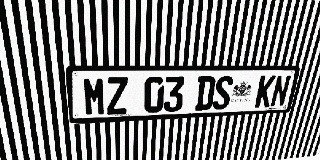0: (144, 76, 165, 113)
3: (163, 76, 185, 112)
D: (194, 76, 216, 111)
K: (254, 75, 276, 108)
M: (82, 77, 106, 116)
N: (270, 75, 292, 107)
S: (212, 76, 234, 110)
Z: (106, 77, 128, 115)
